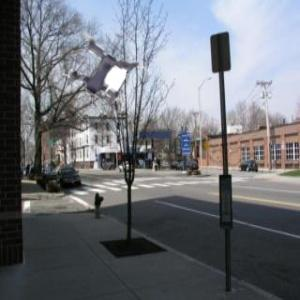drone: (53, 26, 150, 123)
